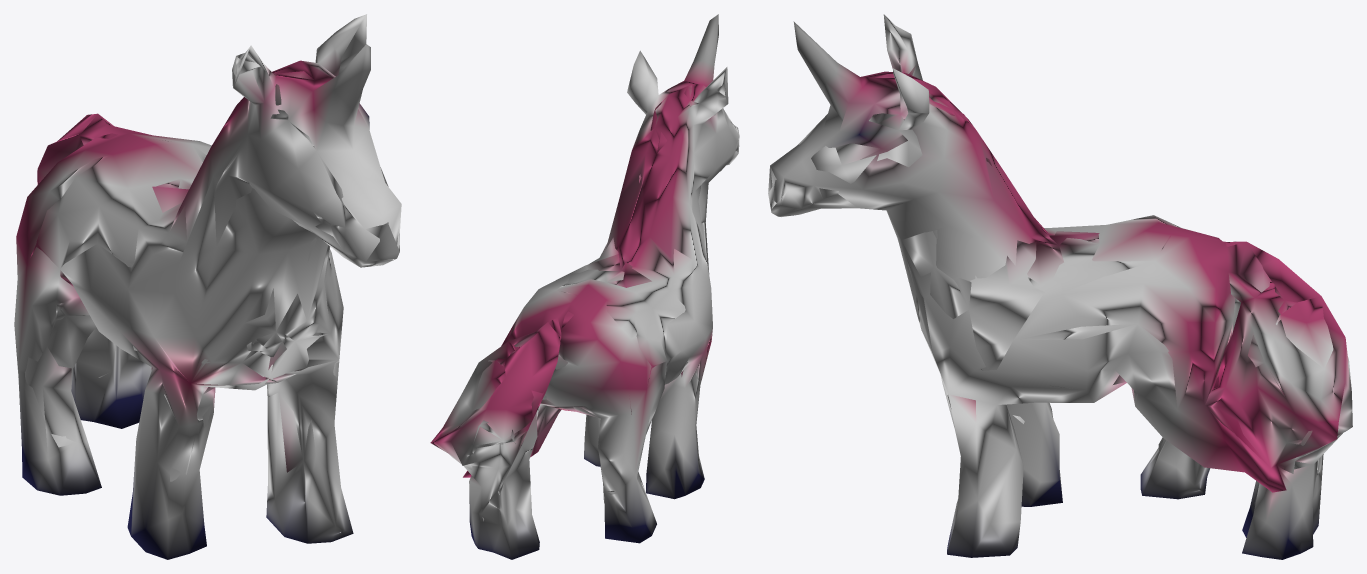
The model's file is gen3d-unicorn-lod0.glb.
The picture shows the model from 3 angles, left to right: view 1: azimuth 30°, elevation 25°; view 2: azimuth 150°, elevation 25°; view 3: azimuth 270°, elevation 25°; orthographic projection. The views are drawn at different scales.
Visible parts, largest first — view 1: part_0; view 2: part_0; view 3: part_0.
Part boxes in pixels (bbox=[...]): part_0: bbox=[14, 14, 401, 559]; part_0: bbox=[430, 14, 739, 559]; part_0: bbox=[768, 14, 1352, 559].
Bounding box in the file's own units: 0.4126 × 1 × 1.05.
